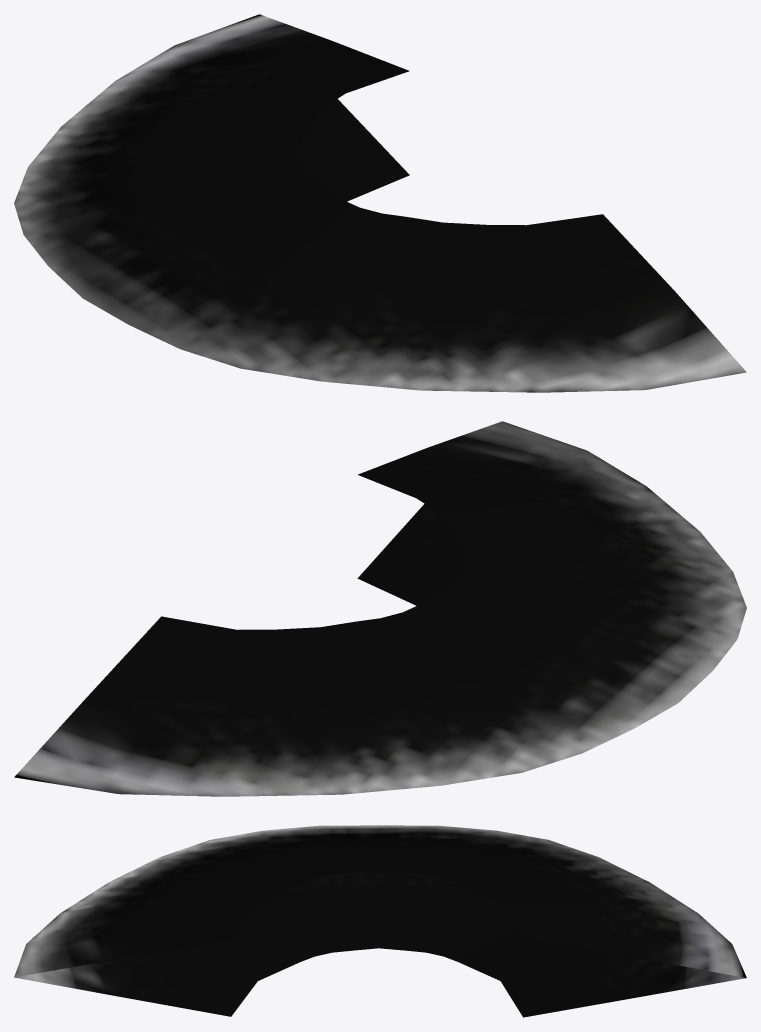
File: daoguang_hou 1.FBX
3 views of the same model, one above another, from view 1: azimuth 30°, elevation 25°; view 2: azimuth 150°, elevation 25°; view 3: azimuth 270°, elevation 25° (orthographic). The views are drawn at different scales.
Parts seen in each view (by area): view 1: daoguang_houdu; view 2: daoguang_houdu; view 3: daoguang_houdu.
Part boxes in pixels (x1,y1,x2,y2): daoguang_houdu: (14, 14, 746, 392); daoguang_houdu: (14, 421, 746, 796); daoguang_houdu: (14, 825, 746, 1017).
Size of the model in its own units: 106 by 25.05 by 213.
Materials: 1 (1 with a texture image).
